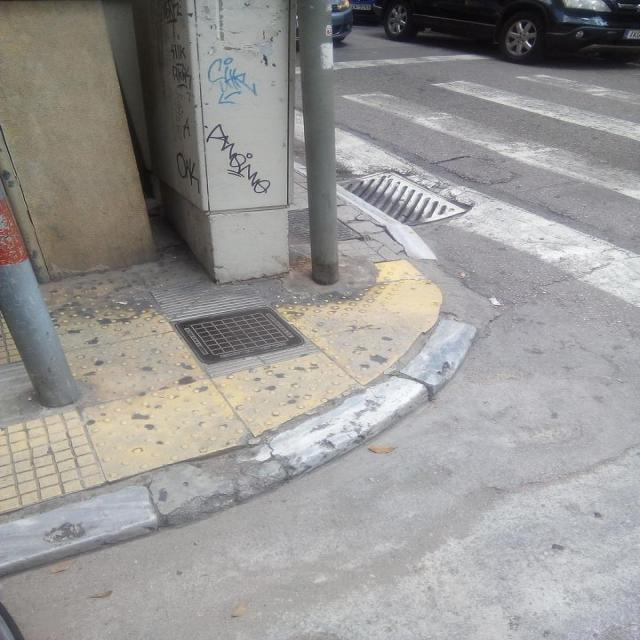nonspitting: (206, 122, 271, 194), (208, 56, 259, 106), (161, 0, 186, 59), (174, 152, 201, 192), (171, 61, 191, 88), (182, 115, 194, 140)
